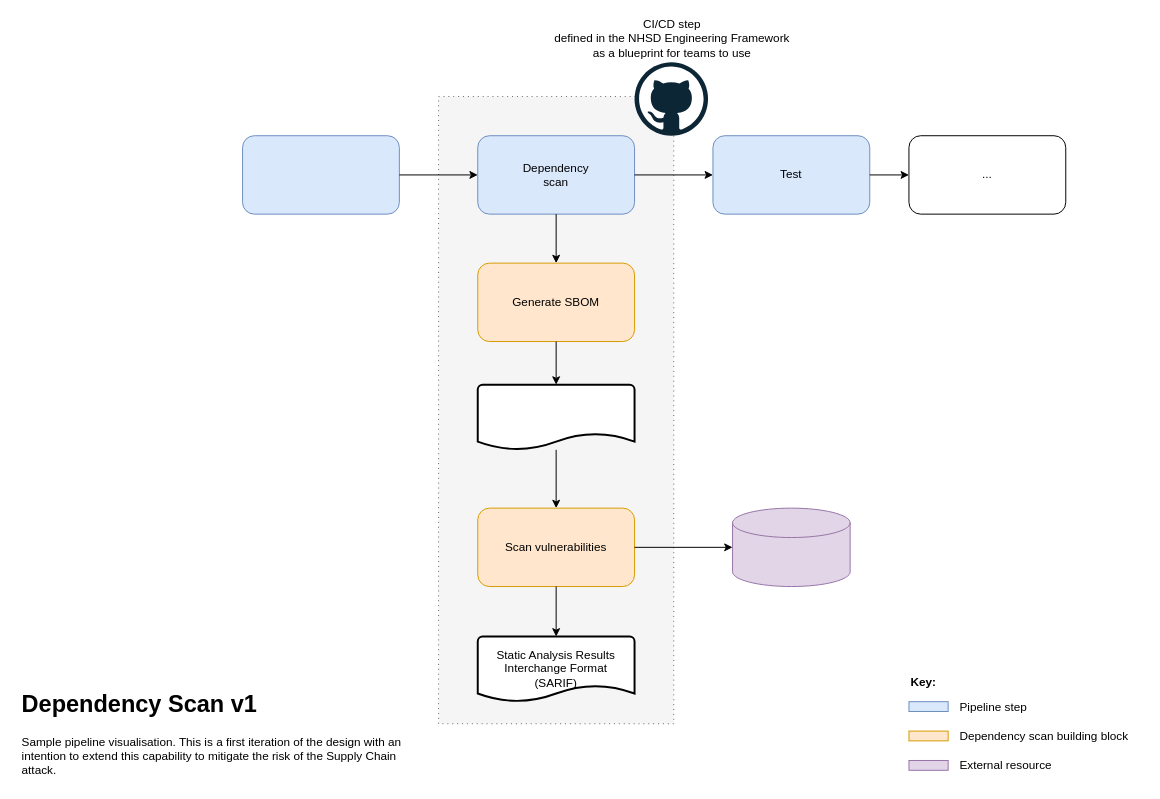
This 1160x799 diagram has some shape labels left out. The centre of each missing label's shape, as x and y in pixels:
"Build" belongs at [320,174].
"GHSA & CVE database" belongs at [791,547].
"Software Bill of Materials (SBOM)" belongs at [555,416].
